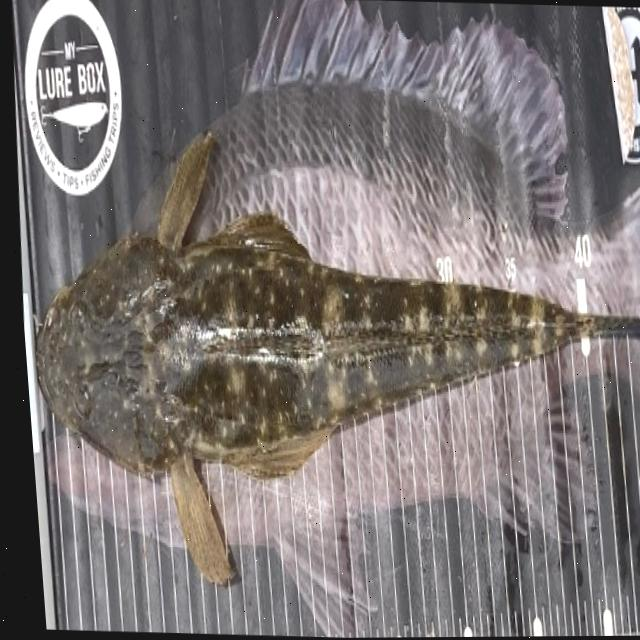Flathead: (6, 103, 640, 606)
